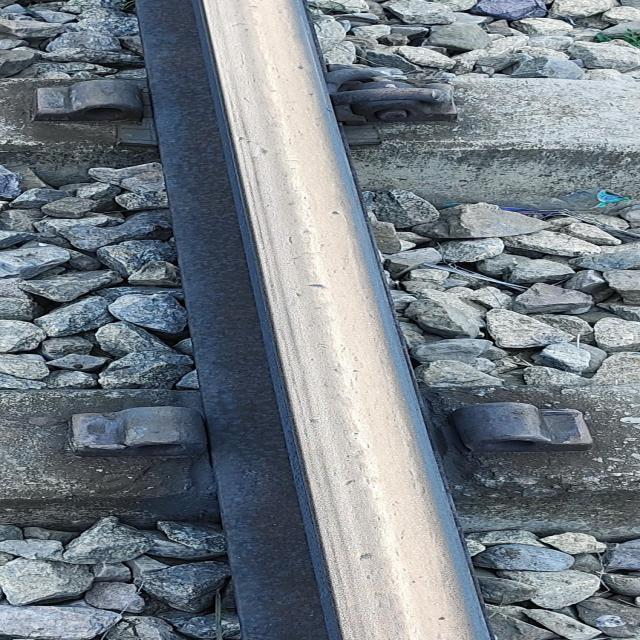Good Fasteners: (325, 65, 457, 125)
Missing Fastener: (0, 79, 143, 142), (448, 403, 592, 457), (68, 406, 207, 457)
